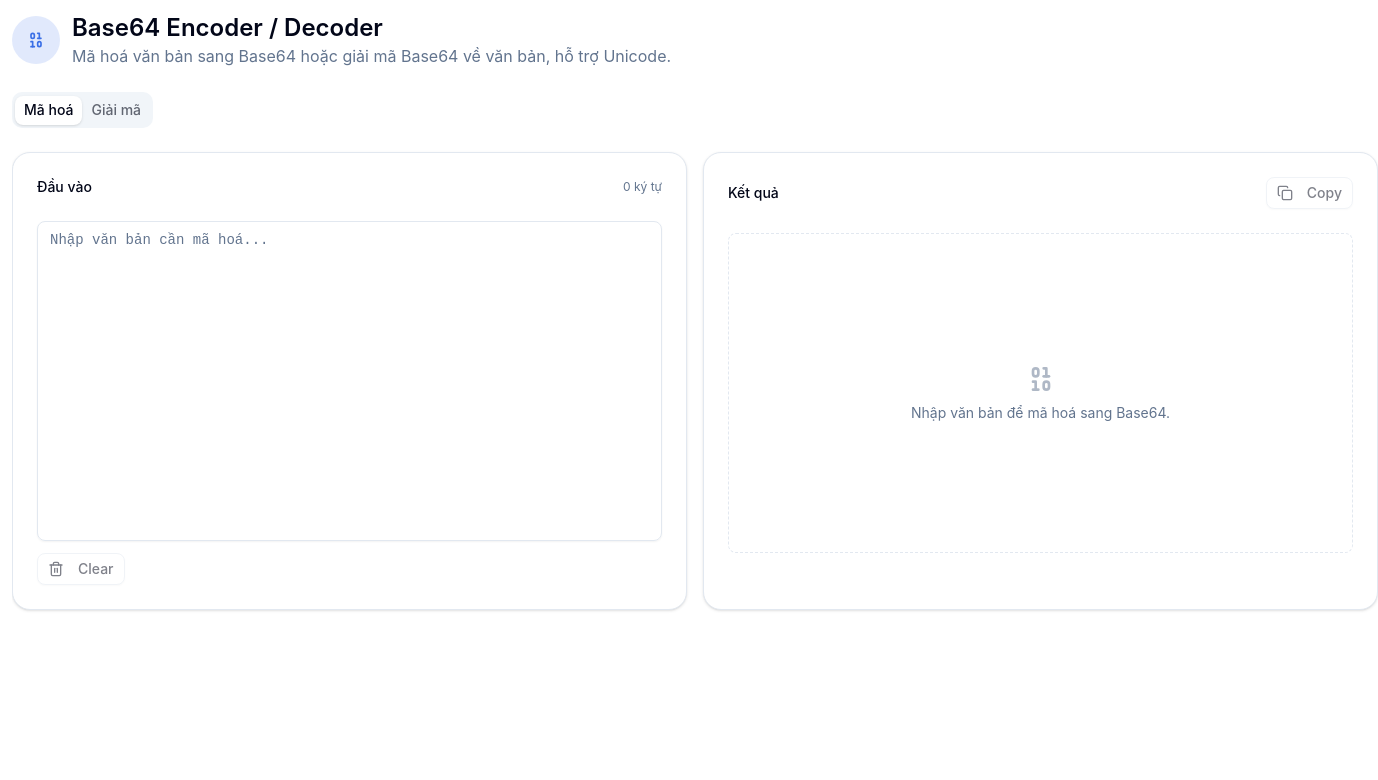
it: Base64EncoderDecoderScreen › shows an error for invalid Base64 in Decode mode
Click the tab "Giải mã" at (116, 110), box [82,96,150,124]
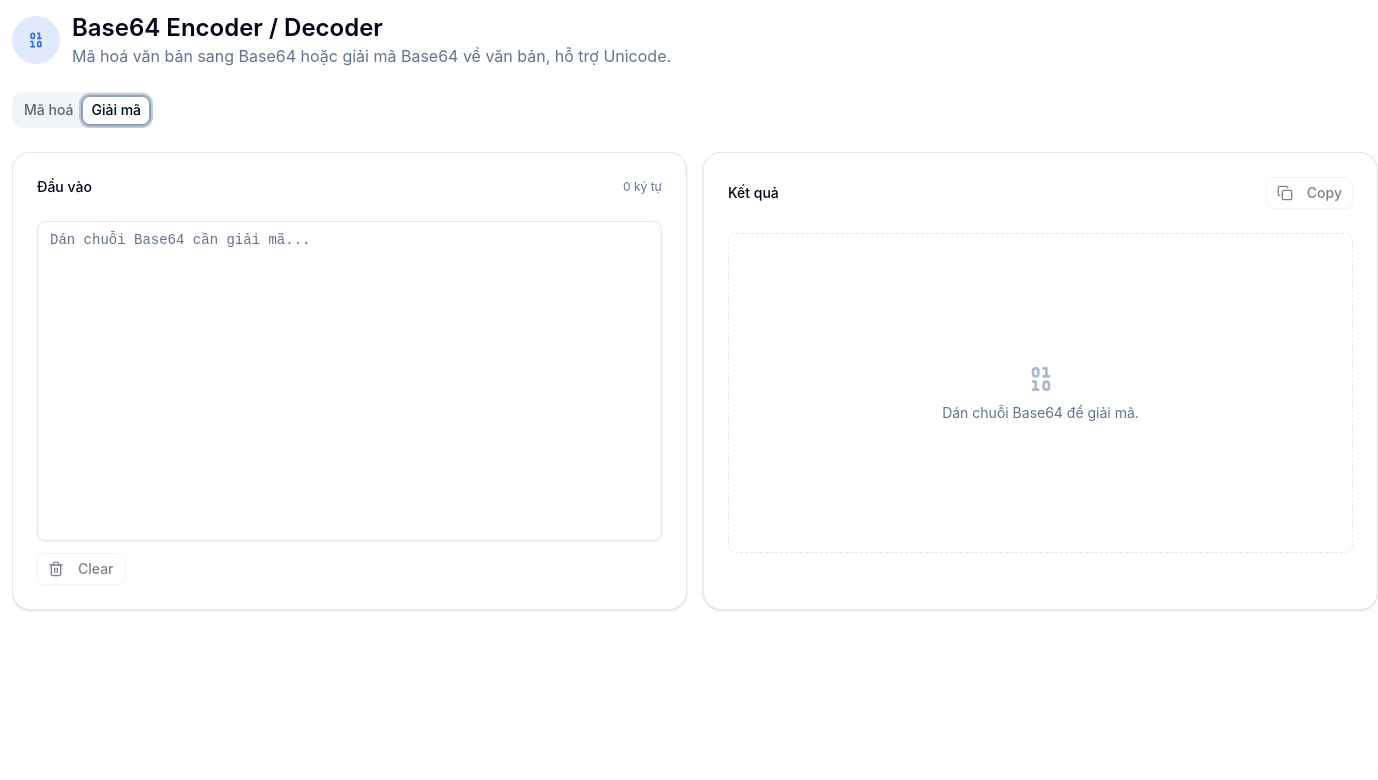
Type "not valid base64!!!" into the text box named "Đầu vào" at (350, 381), box [37,221,662,541]
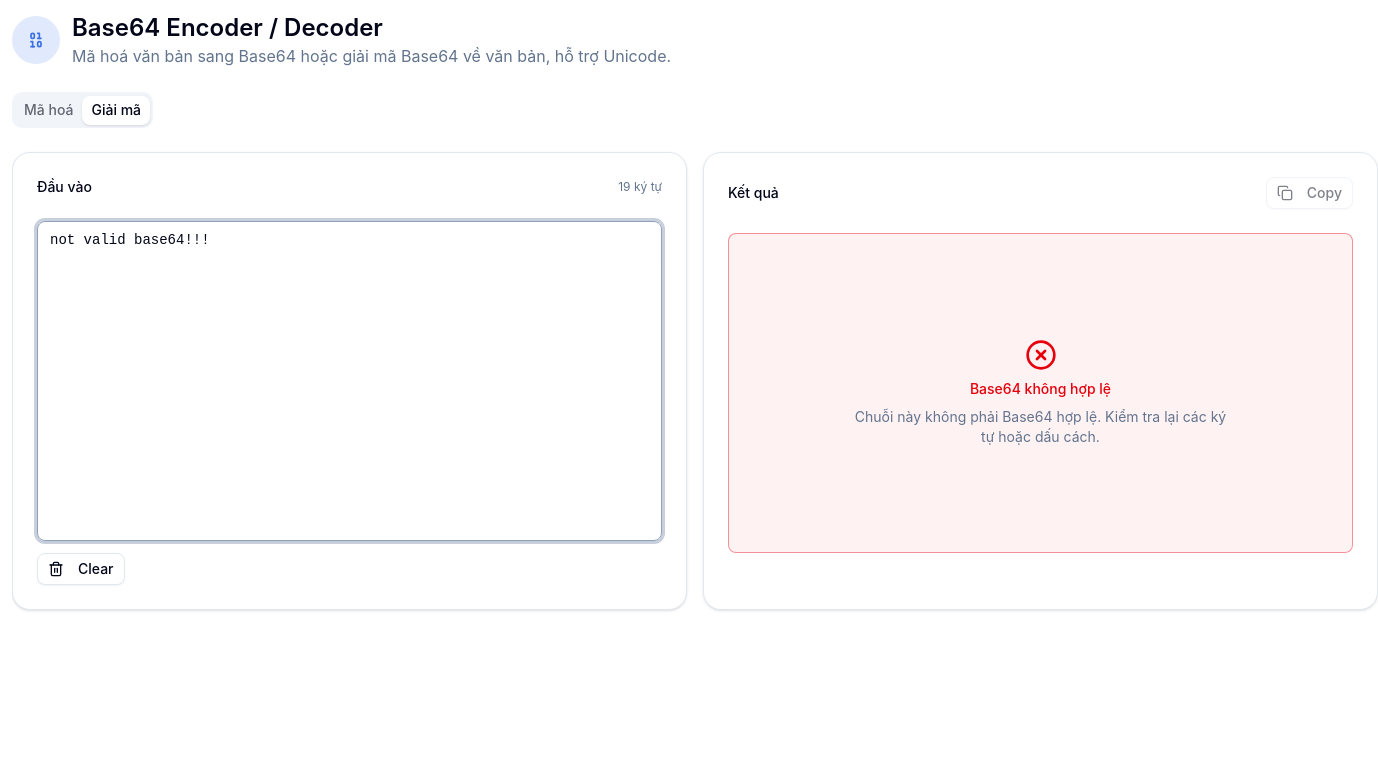
Result: the text "Base64 không hợp lệ" is shown at [970,379,1111,399]
